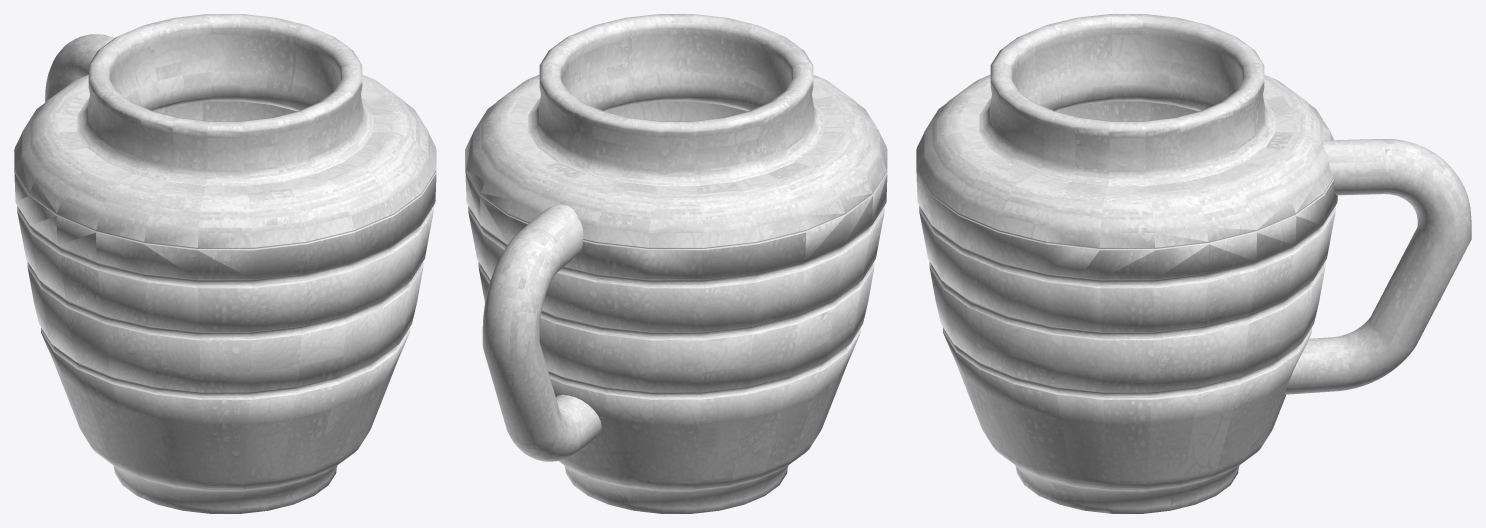
3 renders of one model, left to right at view 1: azimuth 30°, elevation 25°; view 2: azimuth 150°, elevation 25°; view 3: azimuth 270°, elevation 25°, orthographic.
Parts seen in each view (by area): view 1: mesh1_mesh1-geometry, mesh2_mesh2-geometry_1; view 2: mesh1_mesh1-geometry, mesh2_mesh2-geometry_1; view 3: mesh1_mesh1-geometry, mesh2_mesh2-geometry_1.
Boxes of the visible parts, bbox=[...] form: mesh1_mesh1-geometry: bbox=[14, 14, 436, 513]; mesh2_mesh2-geometry_1: bbox=[45, 34, 114, 102]; mesh1_mesh1-geometry: bbox=[465, 14, 887, 513]; mesh2_mesh2-geometry_1: bbox=[482, 204, 601, 461]; mesh1_mesh1-geometry: bbox=[916, 14, 1337, 513]; mesh2_mesh2-geometry_1: bbox=[1285, 139, 1471, 394].
Bounding box in the file's own units: 0.5101 × 0.5382 × 0.6709.
Materials: 4 (1 with a texture image).
